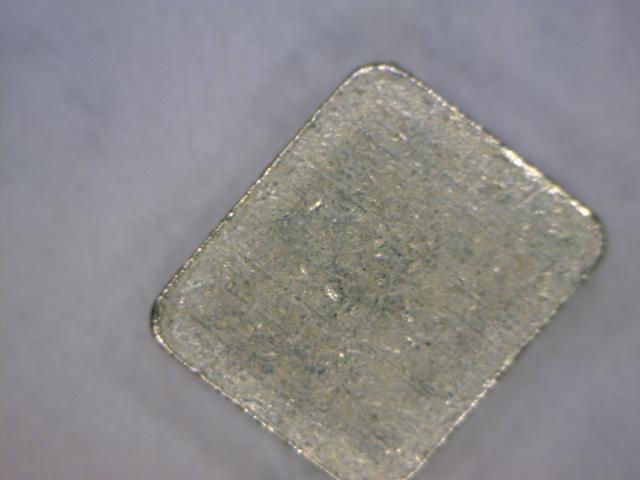ok: (138, 47, 615, 469)
